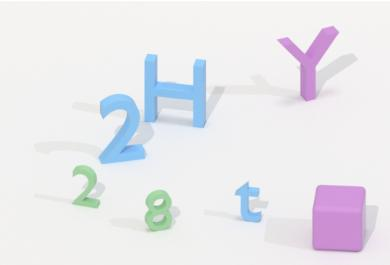0-KhoiVuong: (308, 179, 371, 254)
2: (92, 91, 147, 166), (69, 161, 101, 214)
8: (142, 187, 175, 234)
H: (140, 48, 211, 130)
Y: (275, 22, 342, 106)
t: (232, 178, 266, 230)
